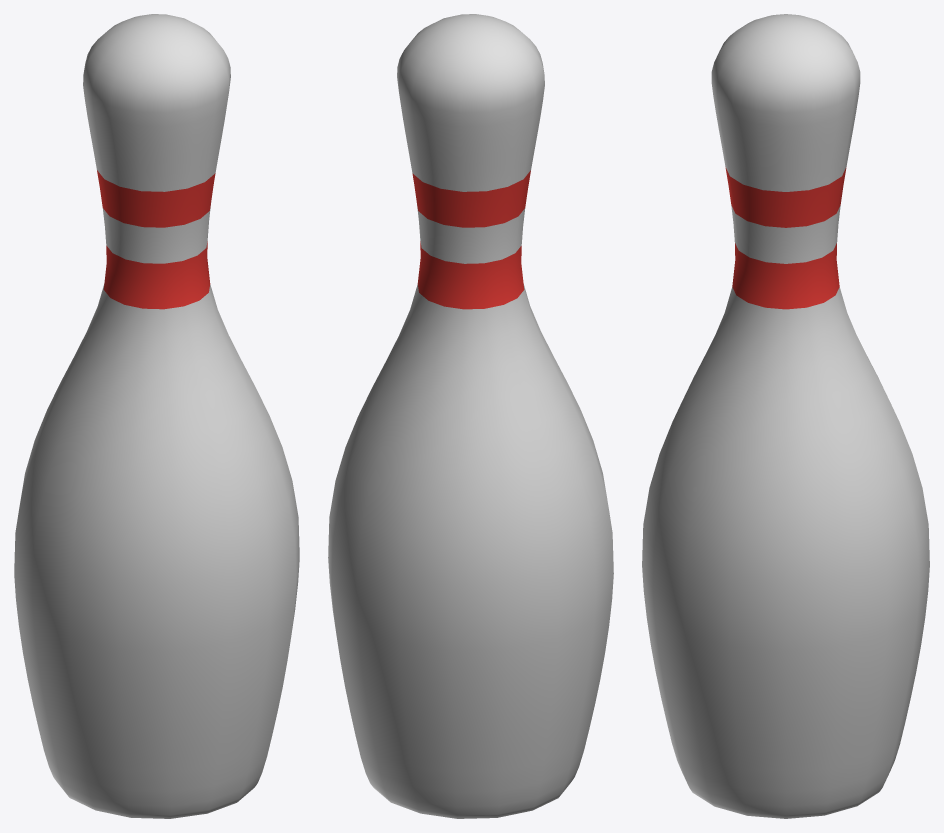
The model's file is bowling-pin.glb.
3 views of the same model, side by side, from view 1: azimuth 30°, elevation 25°; view 2: azimuth 150°, elevation 25°; view 3: azimuth 270°, elevation 25° (orthographic).
Parts seen in each view (by area): view 1: pinStripe; view 2: pinStripe; view 3: pinStripe.
Boxes of the visible parts, box(x1,y1,x2,y2) form: pinStripe: box(14, 14, 299, 818); pinStripe: box(328, 14, 613, 818); pinStripe: box(642, 14, 929, 818).
Bounding box in the file's own units: 1.13 × 3.26 × 1.13.
